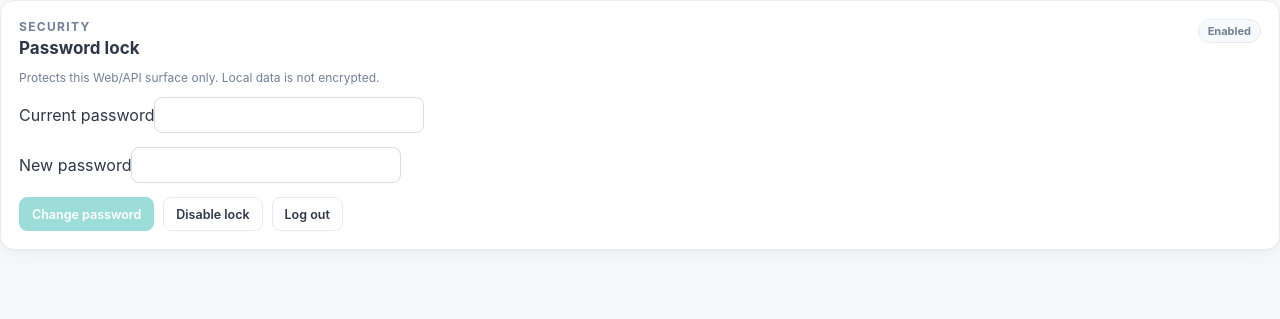
Test: password lock UI › changes and disables the lock from Security settings
The image size is (1280, 319).
Type "old" into the password field labelled "Current password".
click(290, 115); type("old")  # box [154,97,424,133]
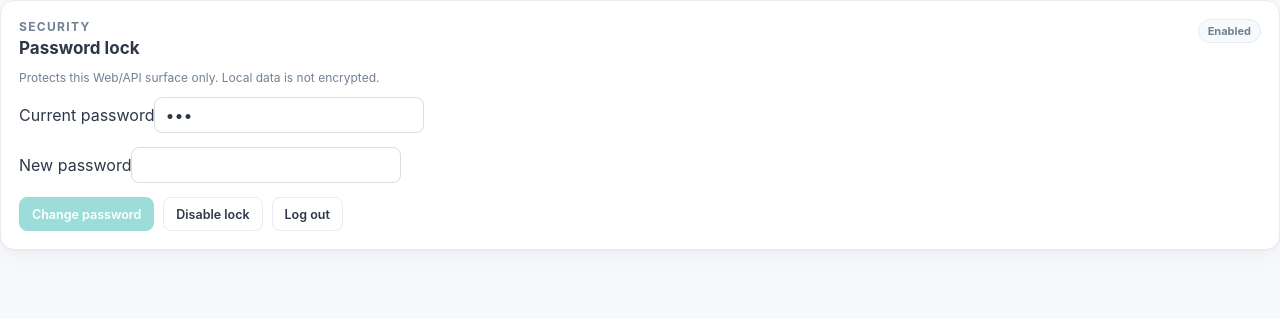
Type "new" into the password field labelled "New password".
click(266, 165); type("new")  # box [132,147,402,183]
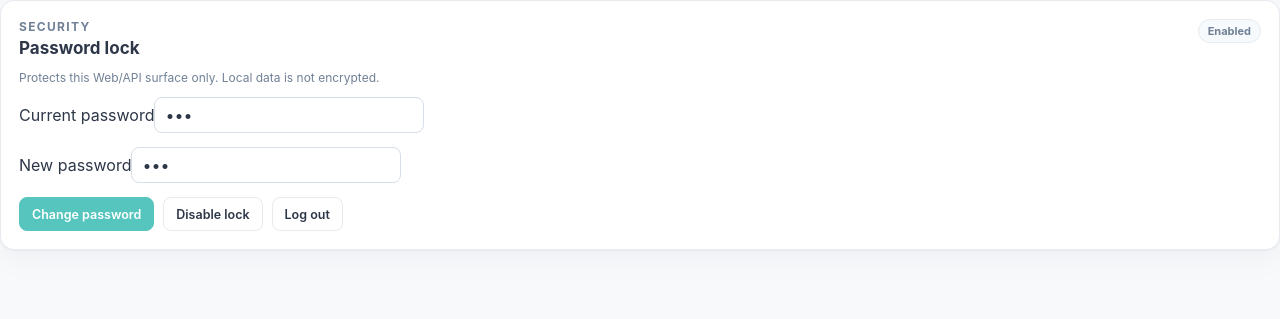
Click the button "Change password".
click(87, 214)  # box [19,197,154,231]
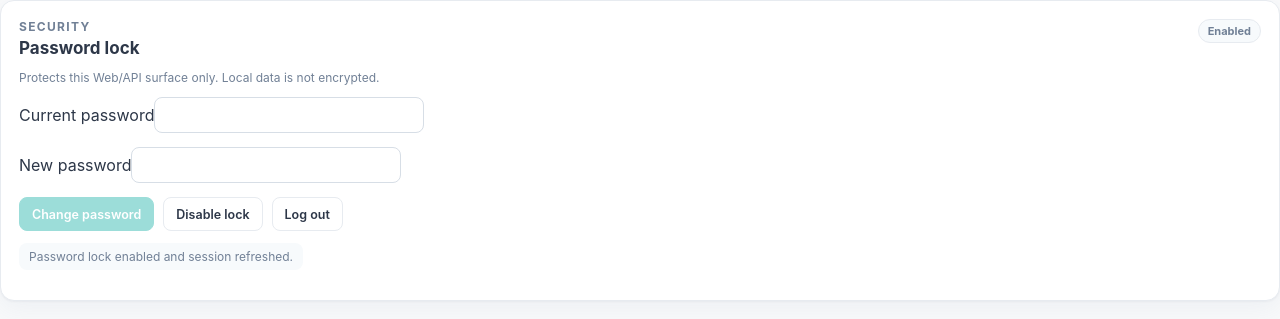
Click the button "Disable lock".
click(213, 214)  # box [163,197,263,231]
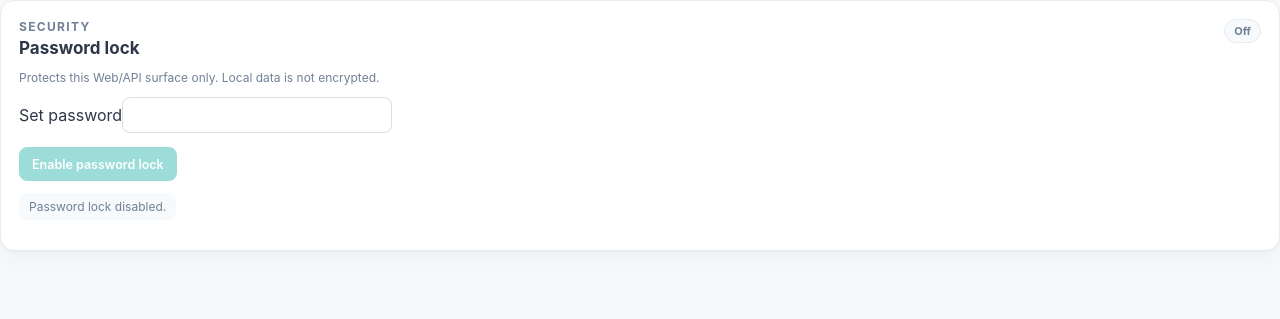
Expected: the text "Password lock disabled." is shown, [19,193,176,220]
